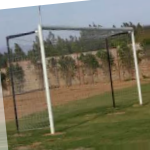goals: (3, 21, 145, 136)
